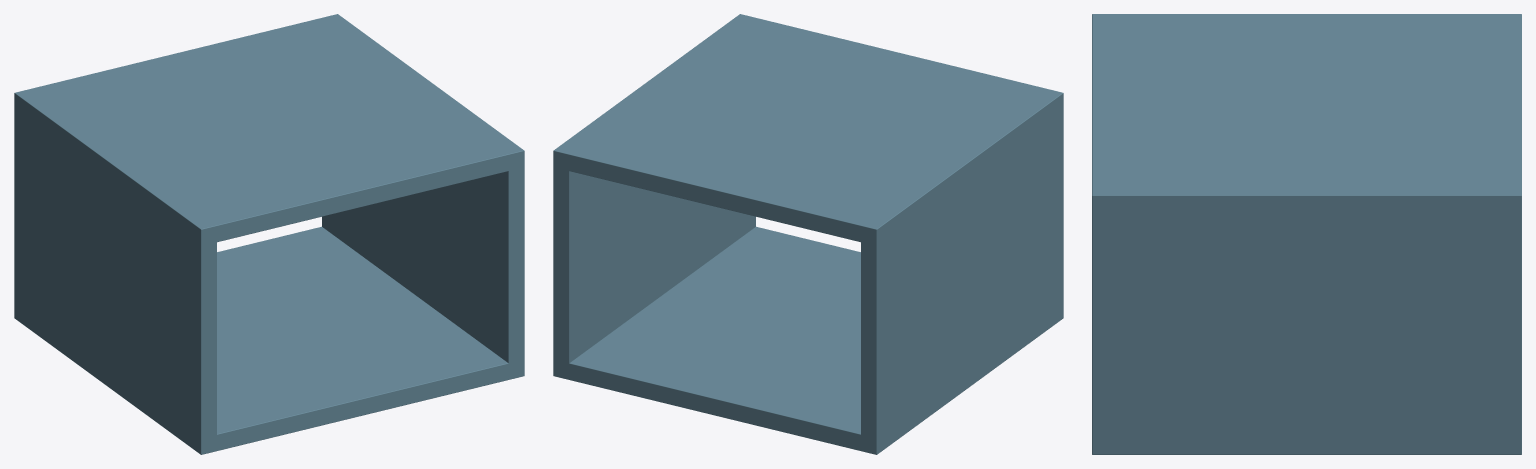
Rendered from MOD-1X07-A-O-AC.glb.
3 renders of one model, left to right at view 1: azimuth 30°, elevation 25°; view 2: azimuth 150°, elevation 25°; view 3: azimuth 270°, elevation 25°, orthographic. The views are drawn at different scales.
Bounding box in the file's own units: 360 × 240 × 360.
